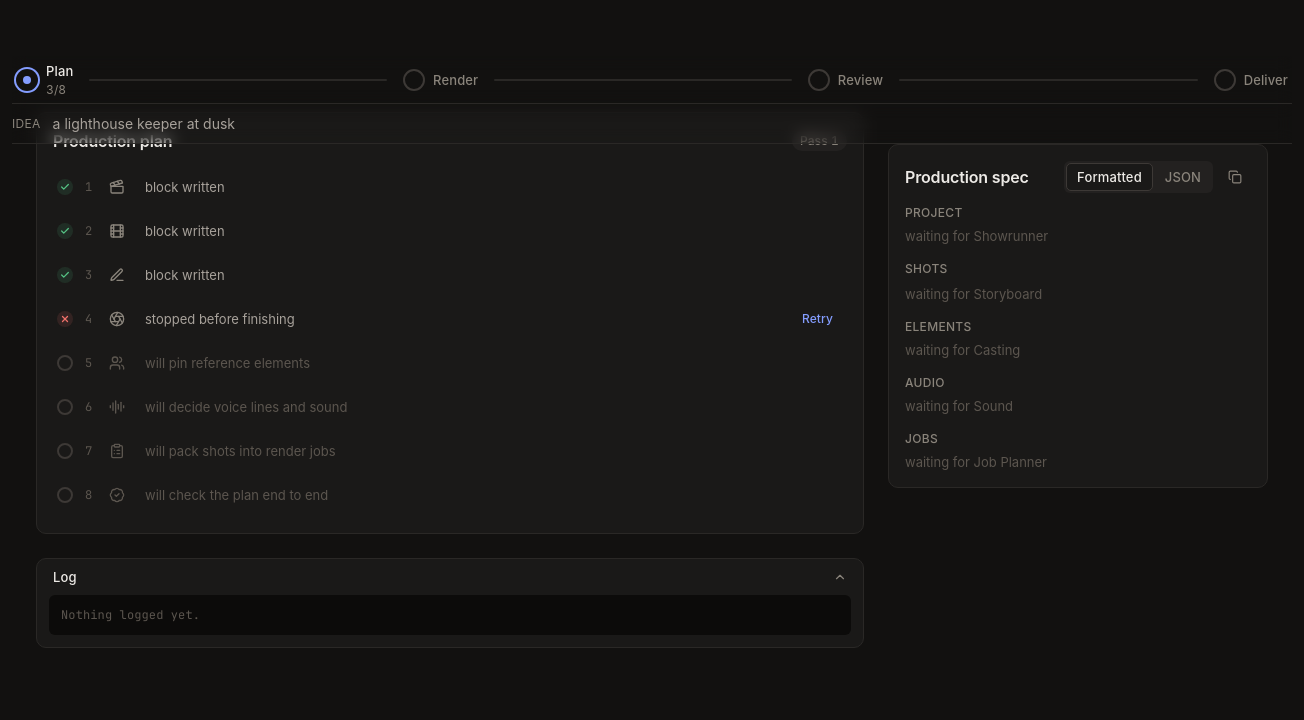
Scenario: AgentRail — live states › a retry that the server rejects surfaces the error instead of silently doing nothing
Expected: the element "Production plan" is shown, top-left (36, 112), bottom-right (864, 534)
Click the button "Retry". click: (817, 319)
box: top-left (792, 305), bottom-right (843, 333)
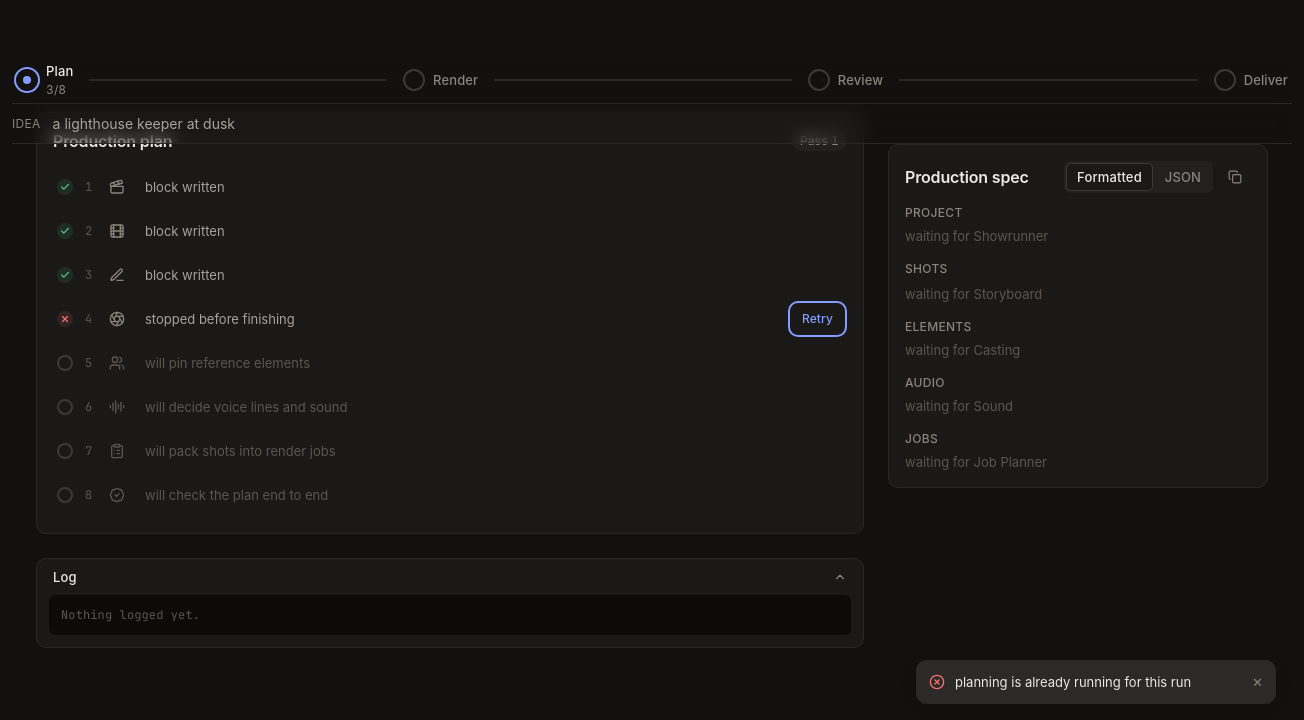
Now the text "planning is already running for this run" is shown, box top-left (955, 674), bottom-right (1191, 690)
